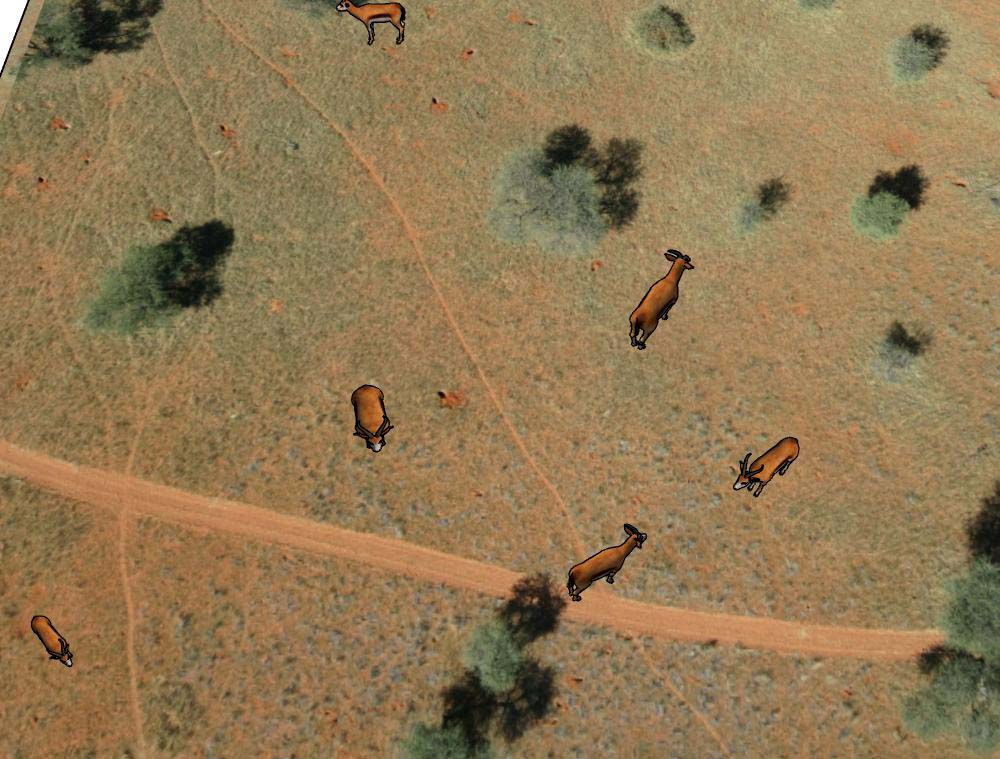springbok: (625, 248, 694, 358), (563, 521, 647, 601), (734, 426, 803, 503), (333, 1, 409, 51), (347, 382, 395, 455), (29, 608, 74, 666)
